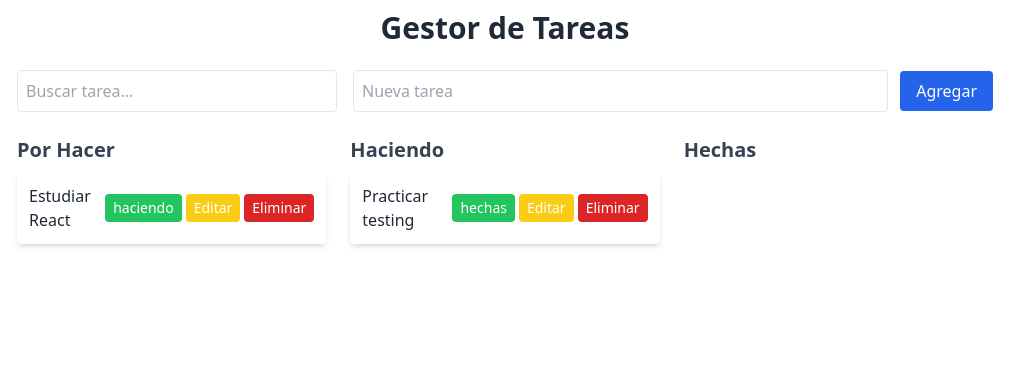
it: Todo App › permite agregar una nueva tarea y la muestra en la lista
The width and height of the screenshot is (1011, 369).
Step 1. Type "Estudiar React test" into the field with placeholder "Nueva tarea" → (621, 91), box [353,70,888,112]
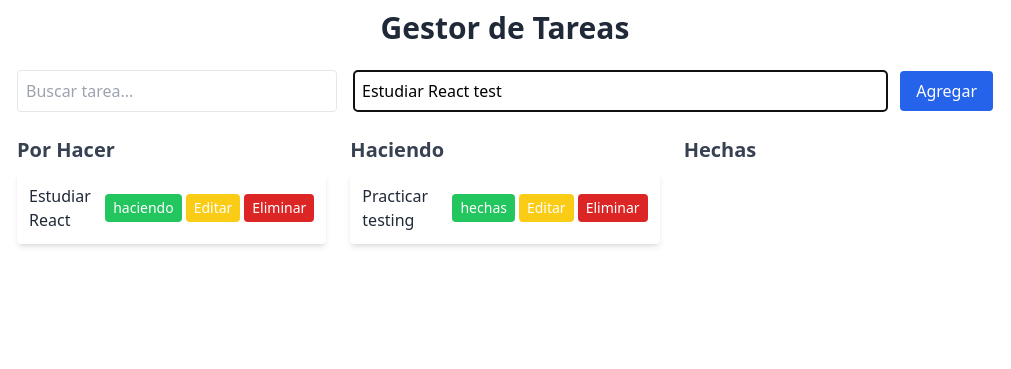
Step 2. Click the button "Agregar" → (947, 91), box [900,71,993,111]
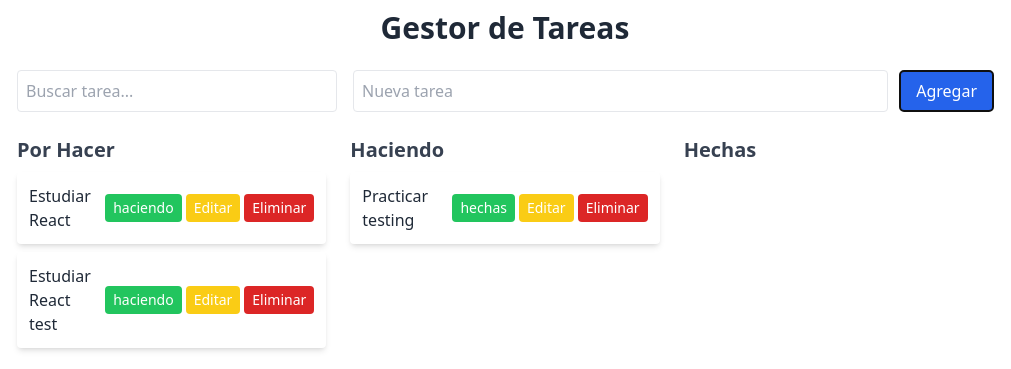
Check: the field with placeholder "Nueva tarea" is empty, box [353,70,888,112]
Check: the text "Estudiar React test" is shown, box [29,264,97,336]
